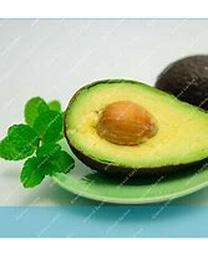avocado: (62, 78, 206, 187)
